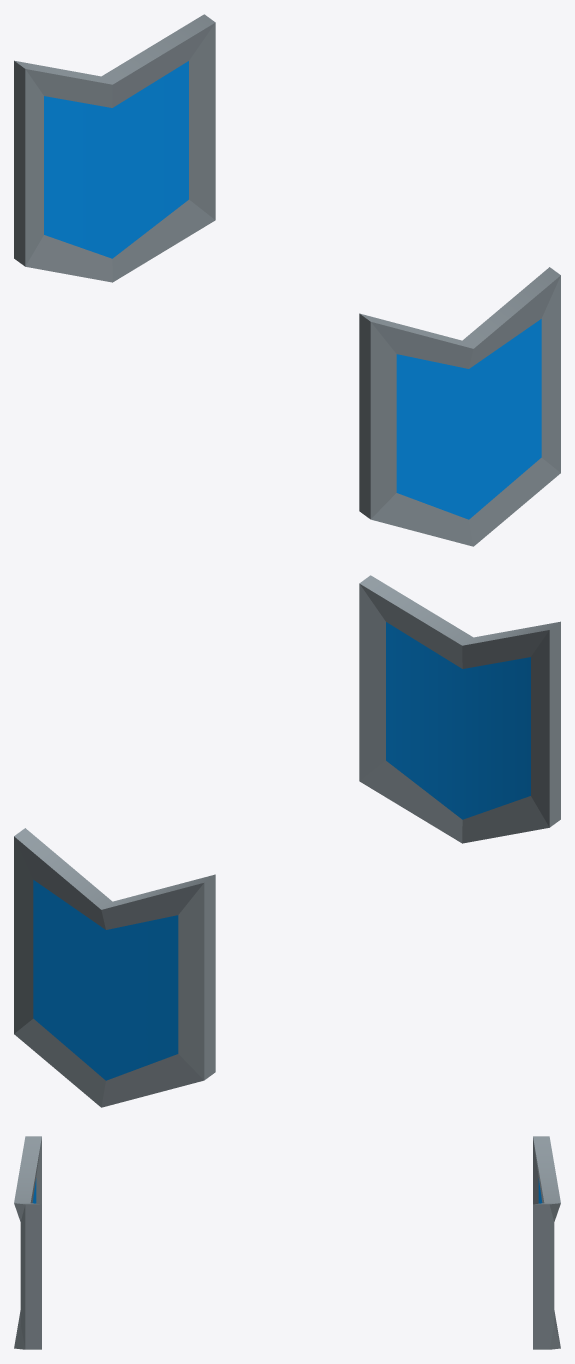
The model's file is Shield.fbx.
3 views of the same model, one above another, from view 1: azimuth 30°, elevation 25°; view 2: azimuth 150°, elevation 25°; view 3: azimuth 270°, elevation 25° (orthographic). The views are drawn at different scales.
Visible parts, largest first — view 1: pCube1; view 2: pCube1; view 3: pCube1.
Boxes of the visible parts, x1,y1,x2,y2 form: pCube1: (14, 14, 560, 546); pCube1: (14, 575, 560, 1107); pCube1: (14, 1136, 560, 1349).
Bounding box in the file's own units: 1.52 × 1.86 × 5.17.
